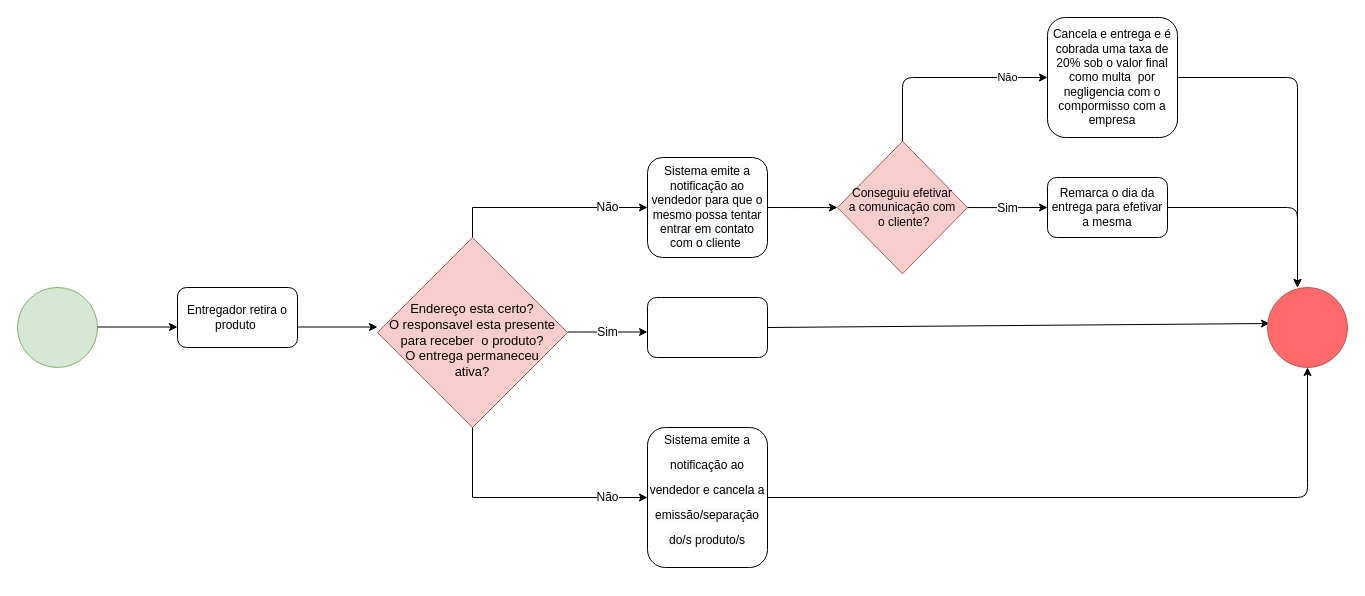
This 1365x596 diagram has some shape labels left out. The centre of each missing label's shape, as x and y in pixels:
"FIM" goes at (x=1307, y=327).
"Pedido Solicitado" goes at (x=57, y=327).
"Produto Entregue ao Cliente" goes at (x=707, y=327).
